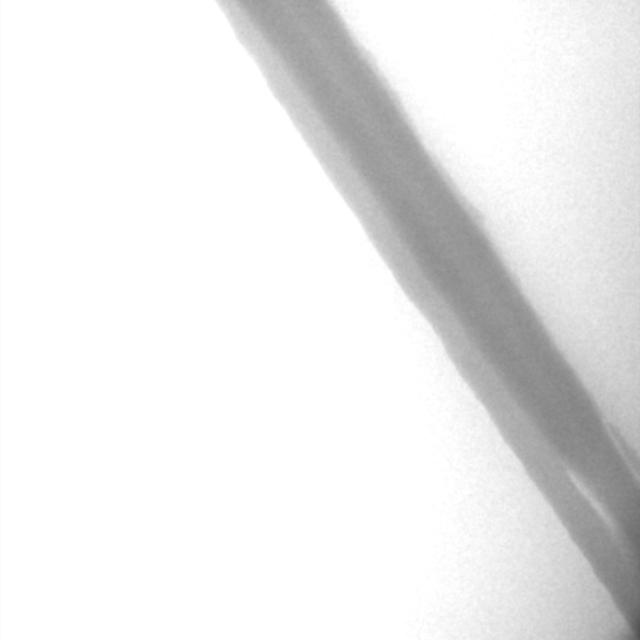unfused: (566, 416, 635, 529)
